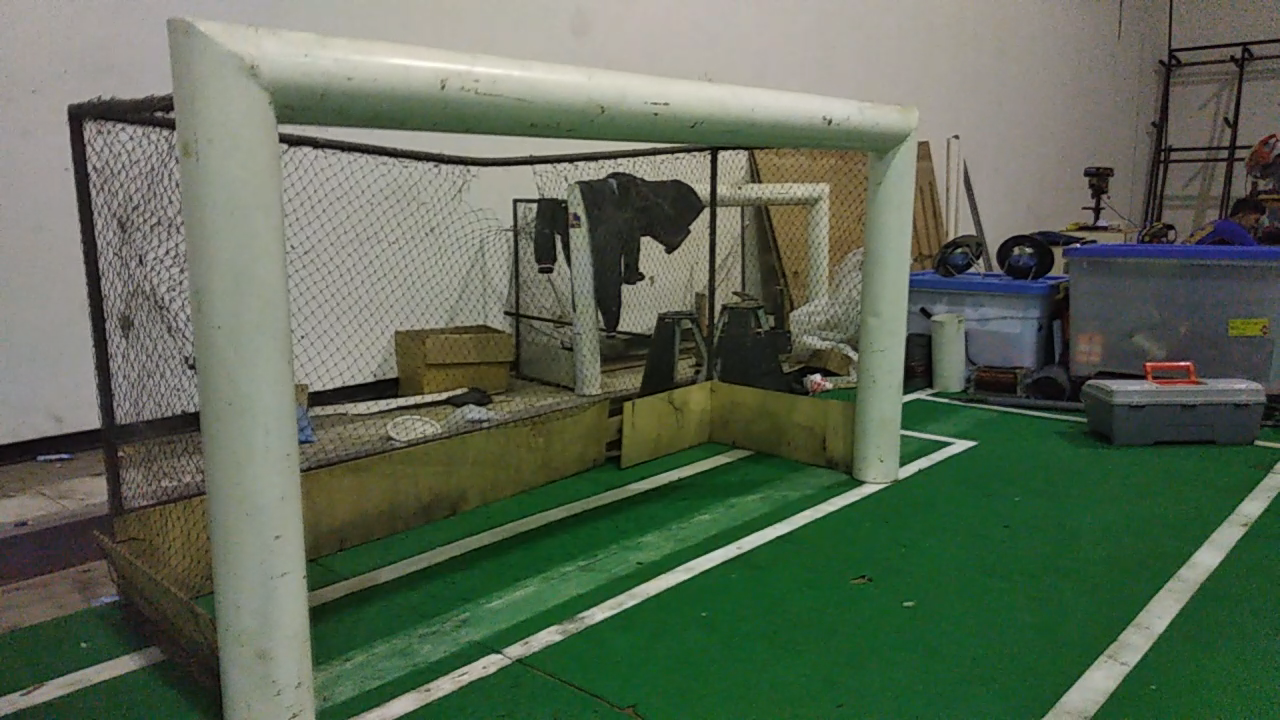gawang: (144, 5, 939, 713)
